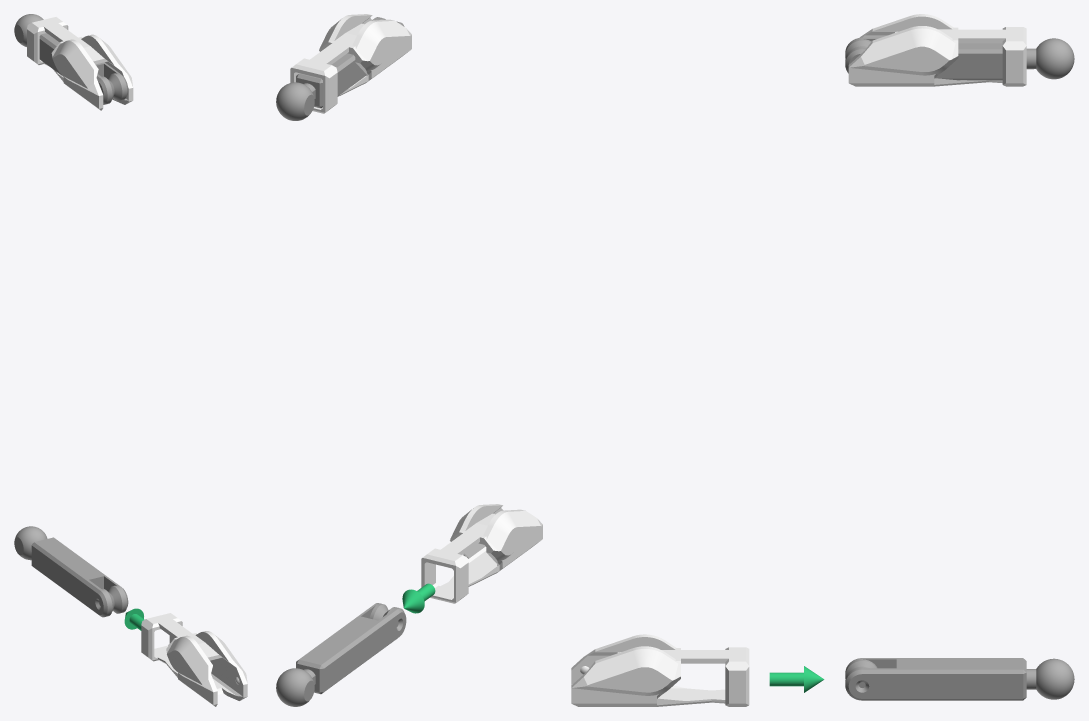
File: lower_leg.glb
3 views of the same model, side by side, from view 1: azimuth 30°, elevation 25°; view 2: azimuth 150°, elevation 25°; view 3: azimuth 270°, elevation 25° (orthographic). The views are drawn at different scales.
Visible parts, largest first — view 1: Body1.013, Body1.012, Body1.011, Body1.010; view 2: Body1.013, Body1.012, Body1.011, Body1.010, Arrow.002; view 3: Body1.013, Body1.012, Body1.011, Body1.010, Arrow.002.
Part boxes in pixels (<box>): Body1.013: <box>141,613,247,706</box>; Body1.012: <box>14,526,128,617</box>; Body1.011: <box>27,17,133,110</box>; Body1.010: <box>14,14,128,104</box>; Body1.013: <box>421,504,542,603</box>; Body1.012: <box>276,603,406,706</box>; Body1.011: <box>290,14,411,113</box>; Body1.010: <box>276,17,404,120</box>; Arrow.002: <box>402,583,435,613</box>; Body1.013: <box>571,634,749,706</box>; Body1.012: <box>845,658,1074,700</box>; Body1.011: <box>848,14,1026,86</box>; Body1.010: <box>845,37,1074,80</box>; Arrow.002: <box>769,666,824,692</box>.
Size of the model in its own units: 9 by 109 by 73.5.
